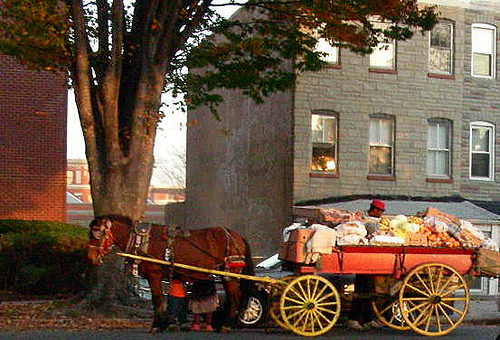horse: (84, 212, 259, 332)
